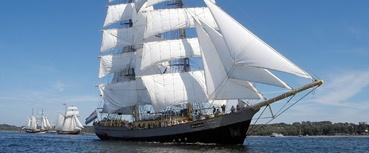fanchuan: (91, 1, 324, 138), (54, 103, 85, 134), (22, 107, 57, 133)
